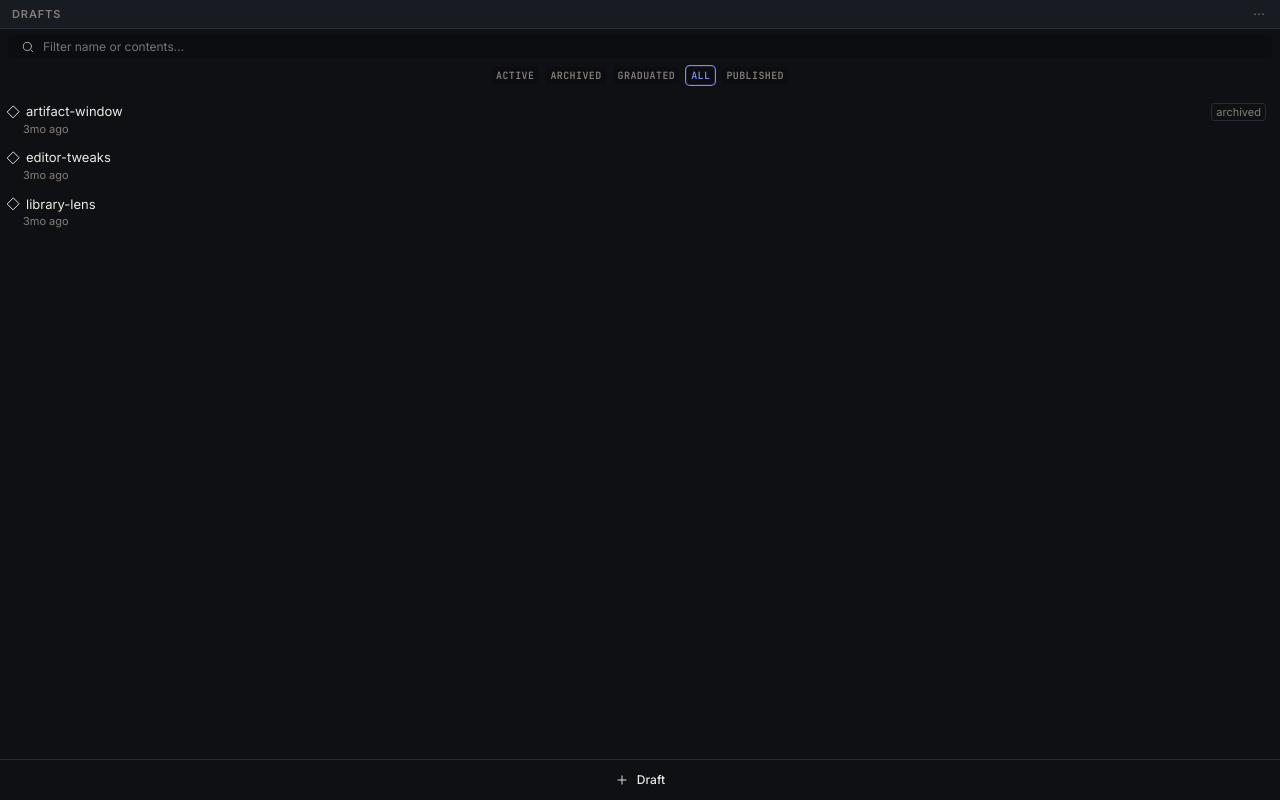
Test: Drafts panel (DRP-drafts-panel.md) › DRP-FR-06, DRP-FR-29, DRP-FR-15, SNV-FR-60, SNV-FR-61: a filter matching nothing keeps both controls and stays in the tree's region
Expected: the text "artifact-window" is shown, [26,102,123,122]
Step 1. Type "nothing" into the field named "Filter drafts" → coordinates (651, 47), box [43,38,1259,56]
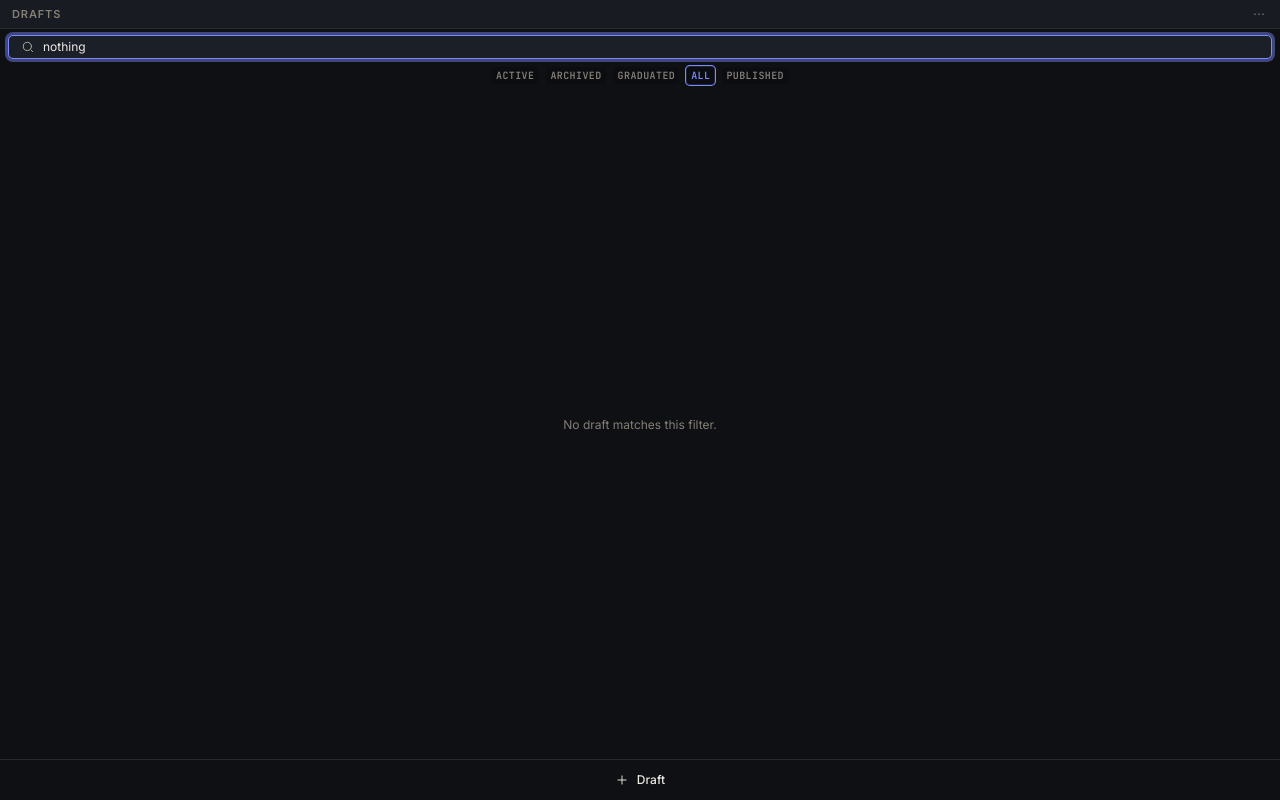
Expected: the element named "Draft status" is shown, [490,65,790,86]
Result: the text "No draft matches this filter." is shown at [563,417,717,432]
